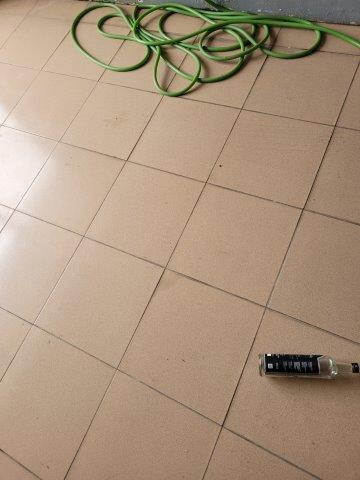botolkaca: (258, 351, 360, 381)
